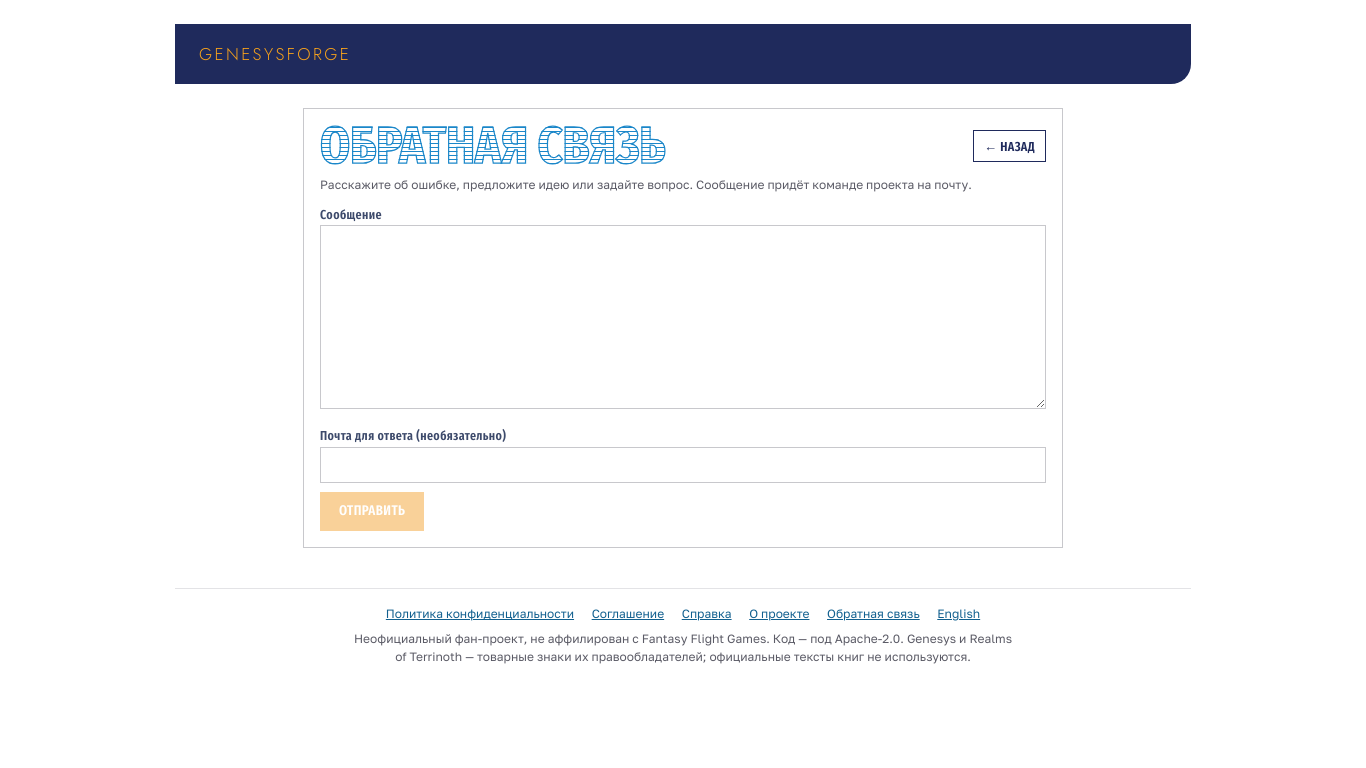
Test: FeedbackPage › shows the server error and keeps the form
The image size is (1366, 768).
In the text box labelled "Сообщение": (683, 317) x1=320 y1=225 x2=1046 y2=409, type "Длинное сообщение"
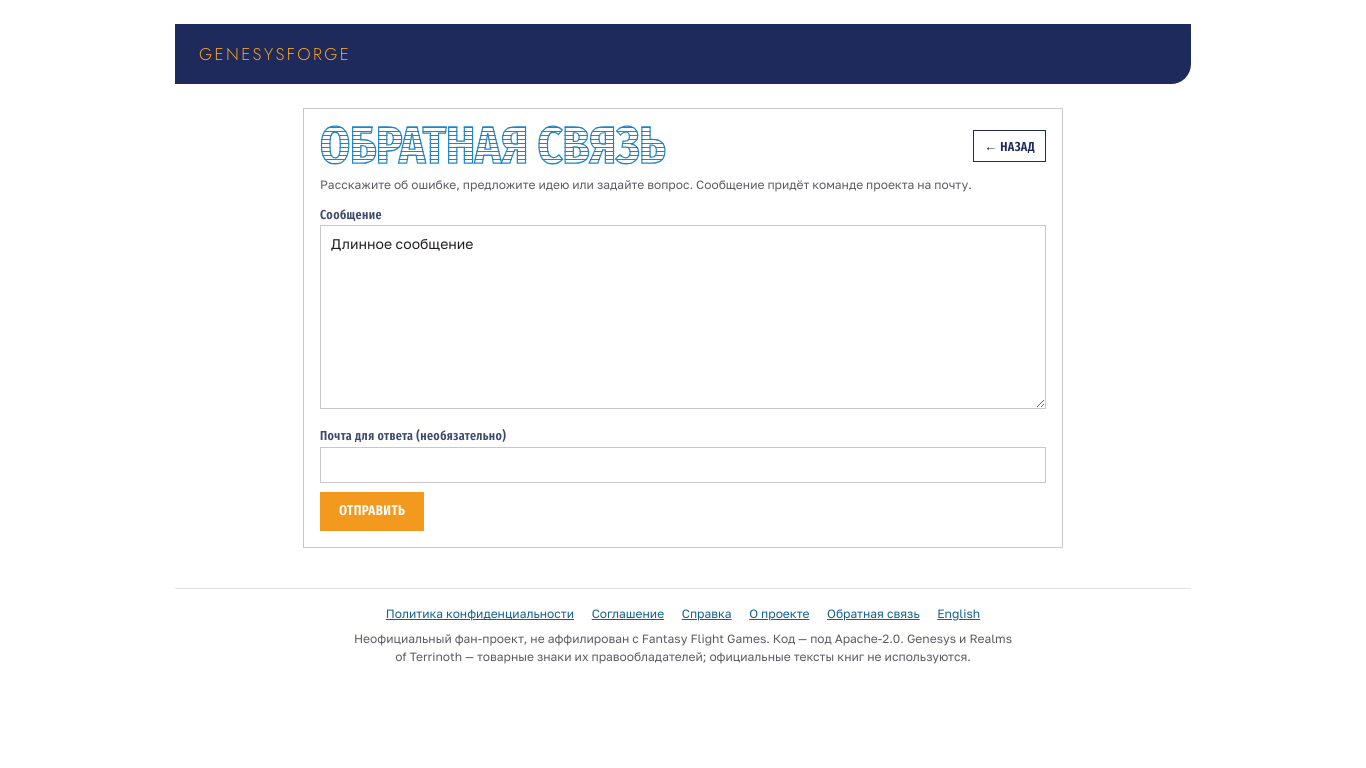
Click the button "Отправить": (372, 512) x1=320 y1=492 x2=424 y2=531
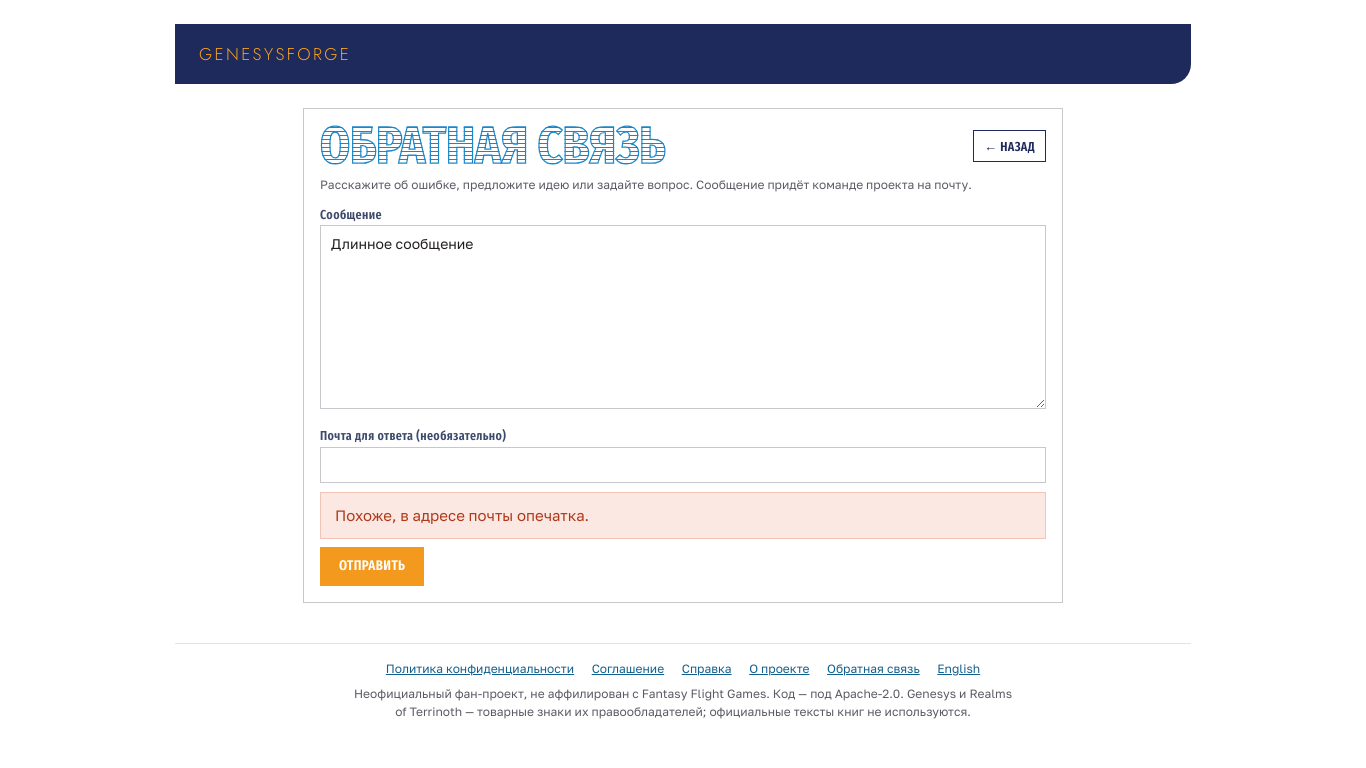
Expected: the button "Отправить" is shown, x1=320 y1=547 x2=424 y2=586
Expected: the text "Похоже, в адресе почты опечатка." is shown, x1=320 y1=492 x2=1046 y2=539
